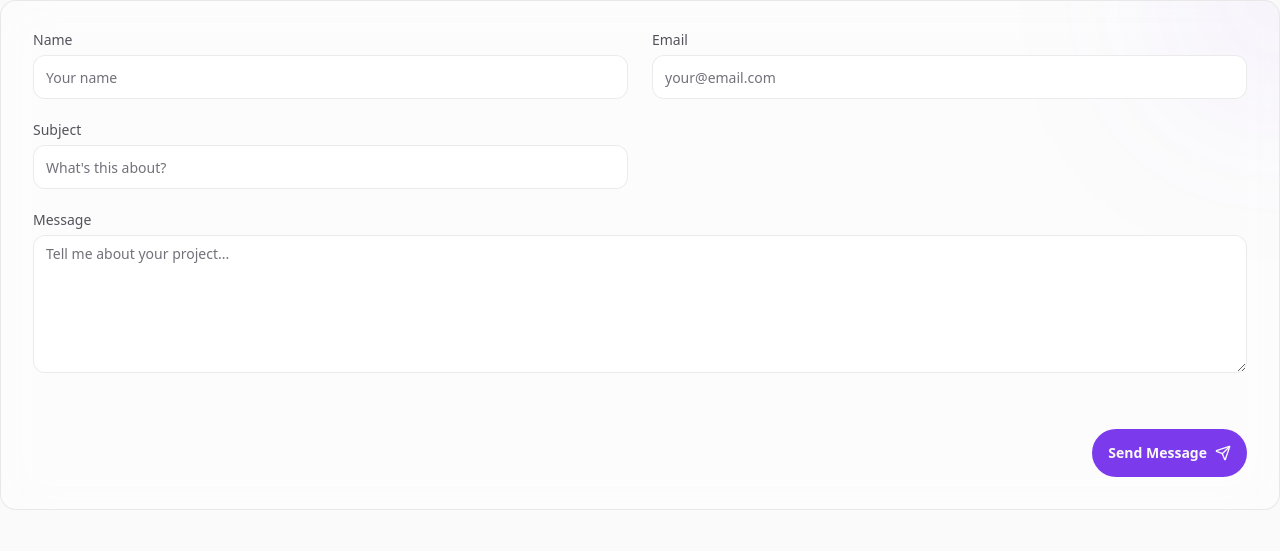
ContactForm › flags invalid email while valid fields pass
Type "Ridho Arachman" into the field labelled "Name" at (330, 77), box [33,55,628,99]
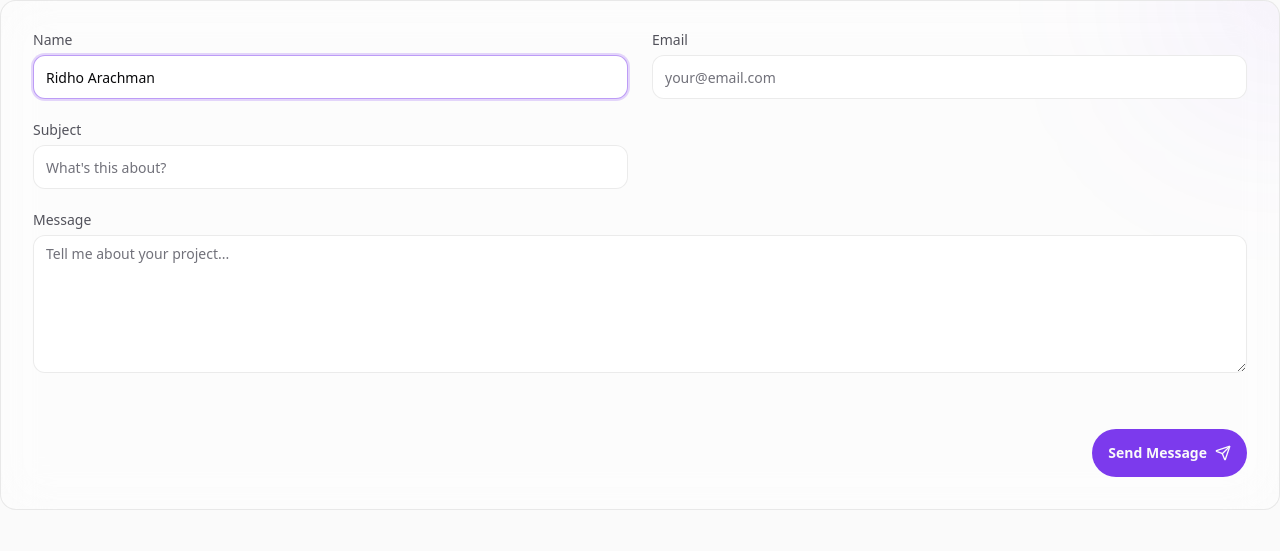
Type "Project Inquiry" into the field labelled "Subject" at (330, 167), box [33,145,628,189]
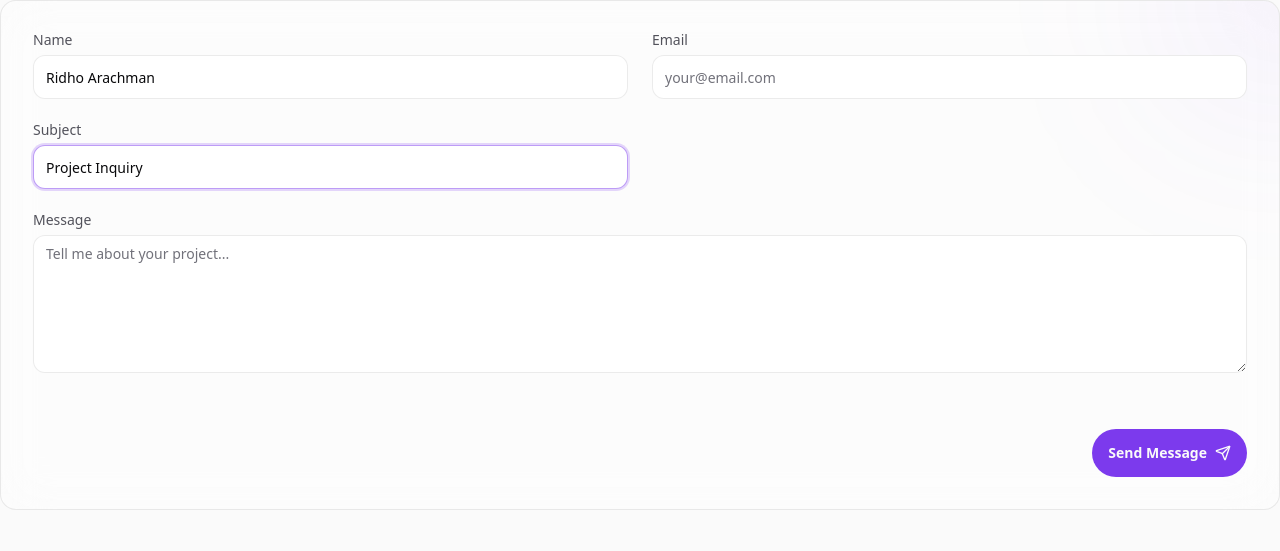
Type "Hello, I have a project for you." into the text box labelled "Message" at (640, 304), box [33,235,1247,373]
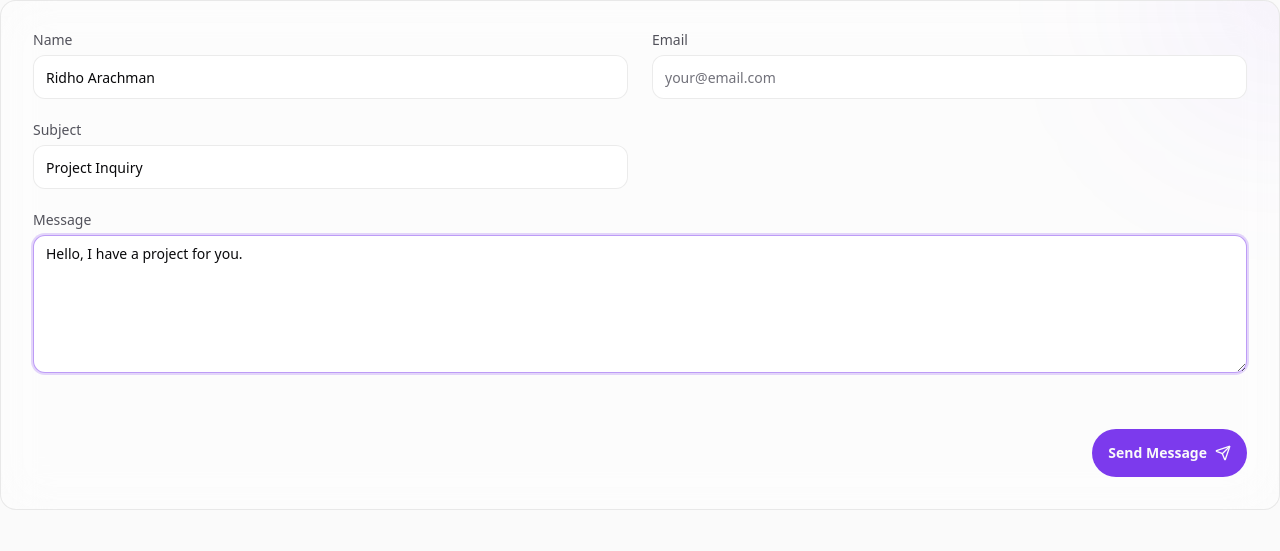
Type "not-an-email" into the field labelled "Email" at (950, 77), box [652,55,1247,99]
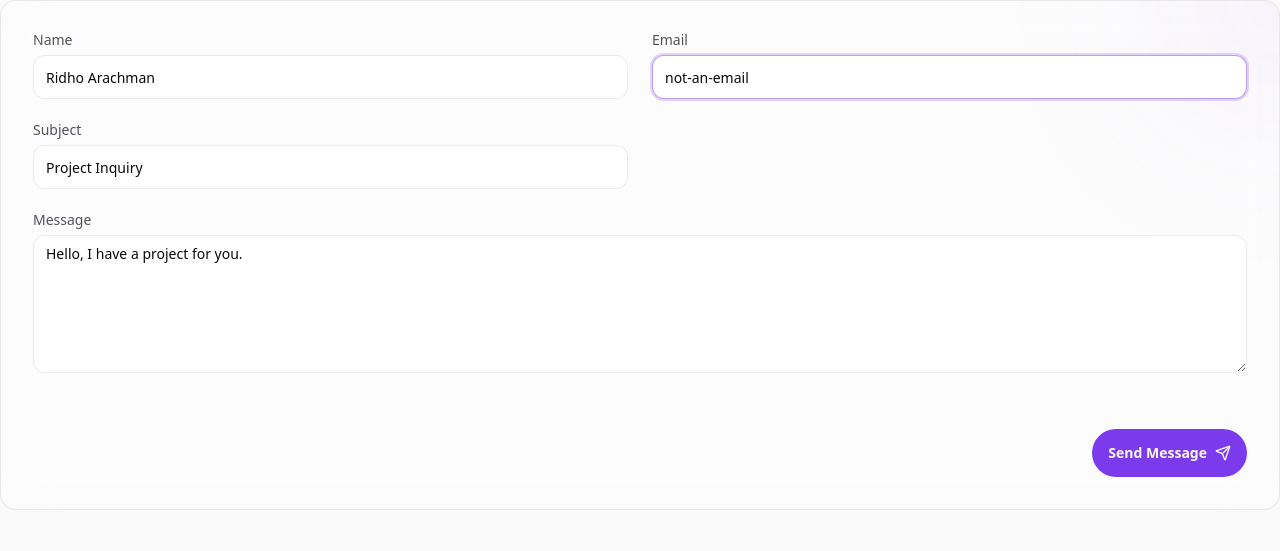
Click the button "Send Message" at (1170, 453), box [1092,429,1247,477]
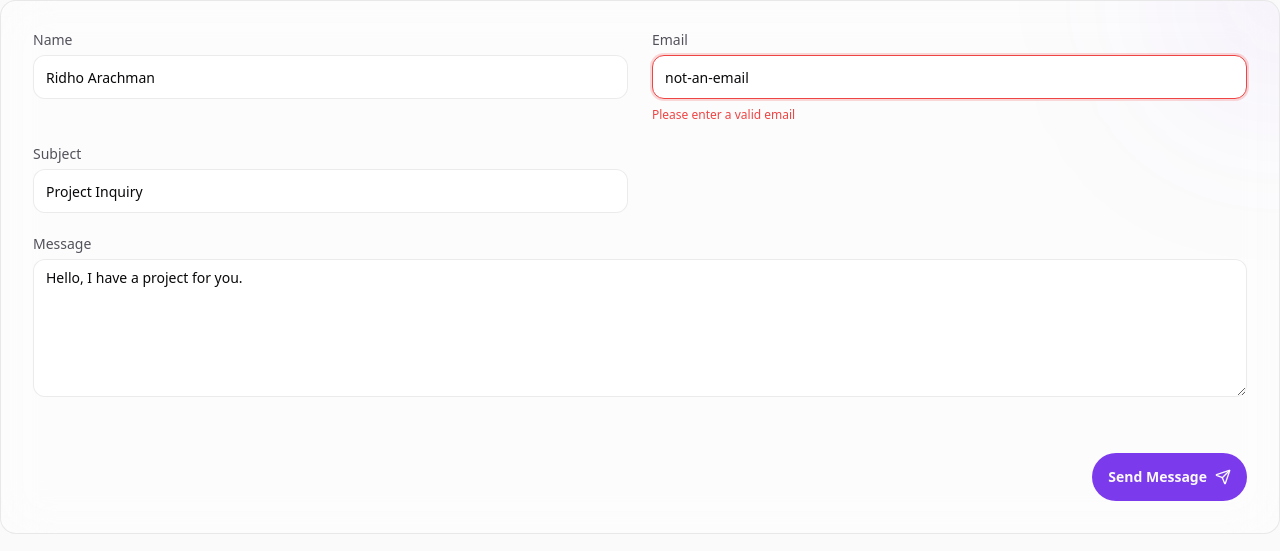
expect the text "Please enter a valid email" is shown: met, box [652,106,795,123]
